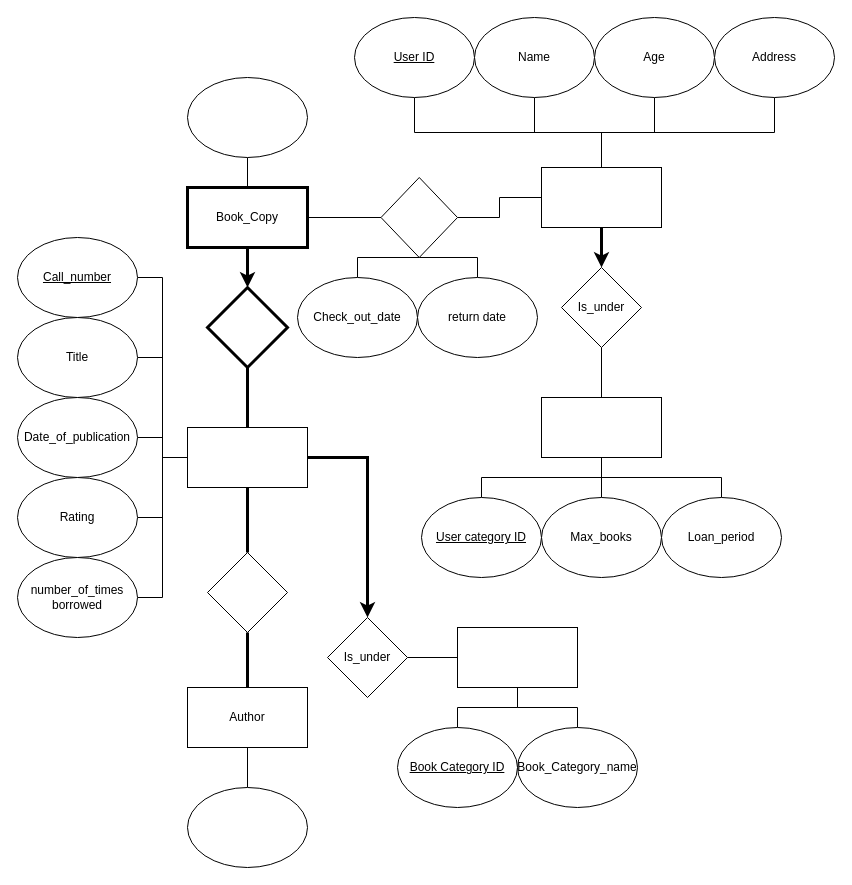
Some shapes in this 852 by 885 pixel diagram are drawn without their labels. The centre of each missing label's shape, as x and y in pixels:
Author name: the point at 247,827
Book: the point at 247,457
Book_Category: the point at 517,657
Borrow: the point at 419,217
Copy_number: the point at 247,117
Each_book_ has: the point at 247,327
User: the point at 601,197
User_Category: the point at 601,427
Write: the point at 247,592
